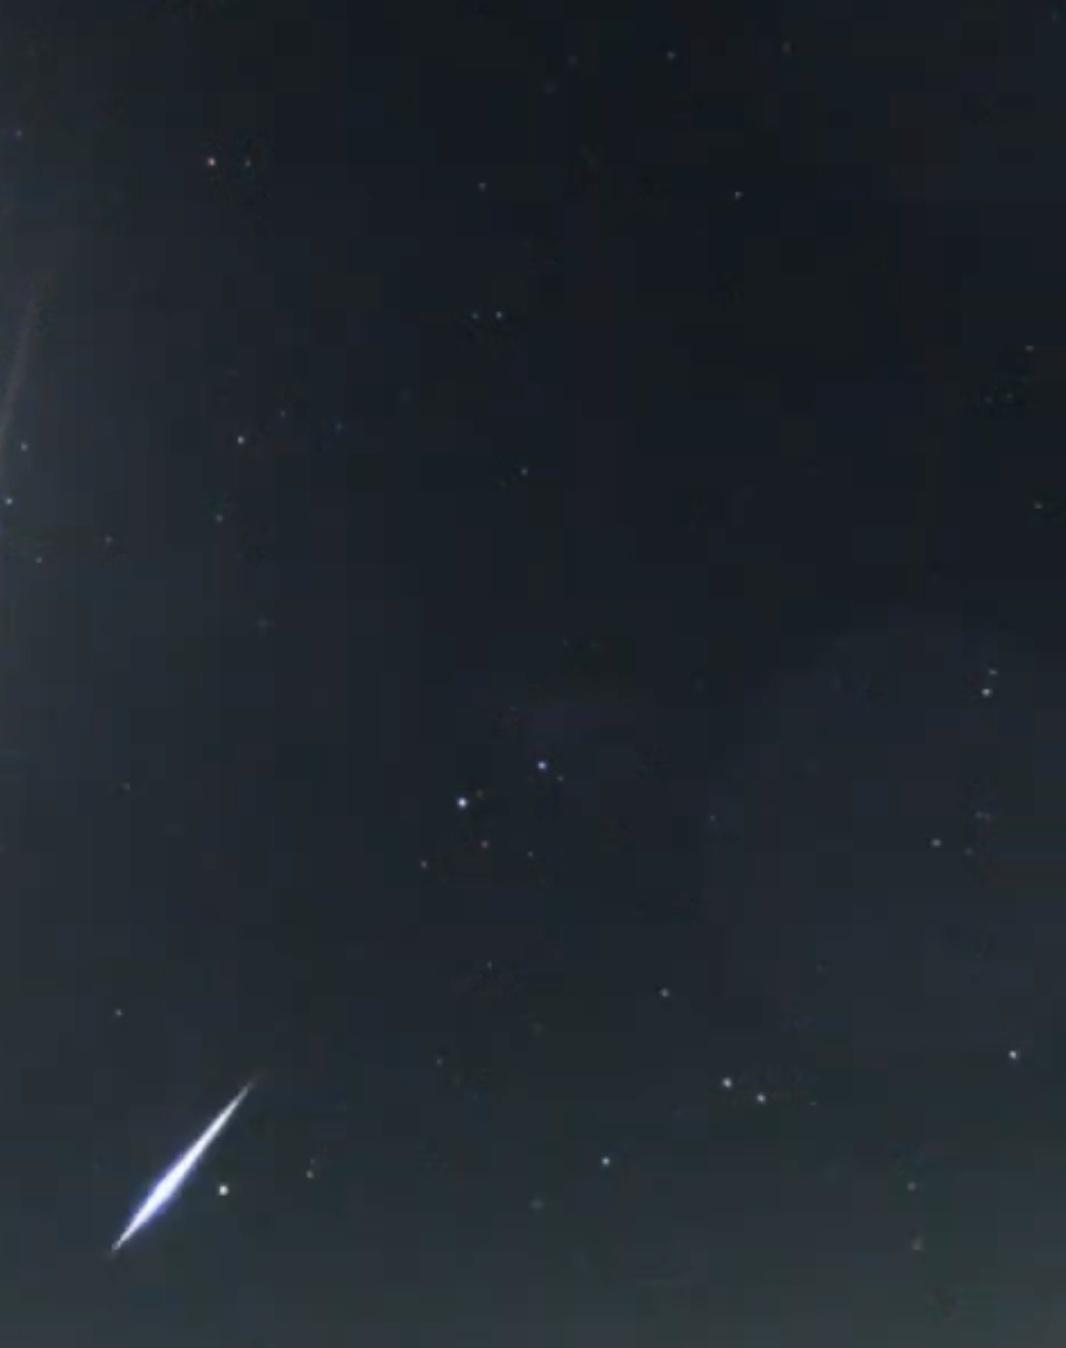meteorite: (81, 1047, 279, 1292)
